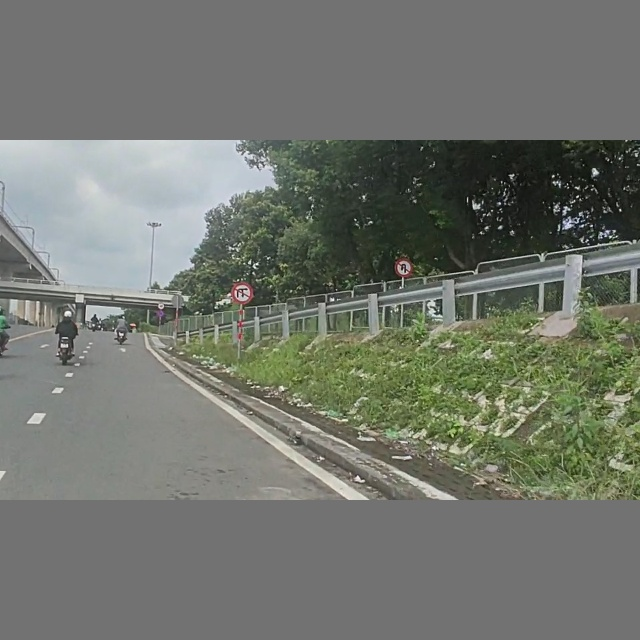P.124a*: (394, 258, 413, 277)
P.124d: (231, 282, 254, 304)
P.127*40: (158, 303, 165, 309)
P.130: (157, 311, 165, 317)
